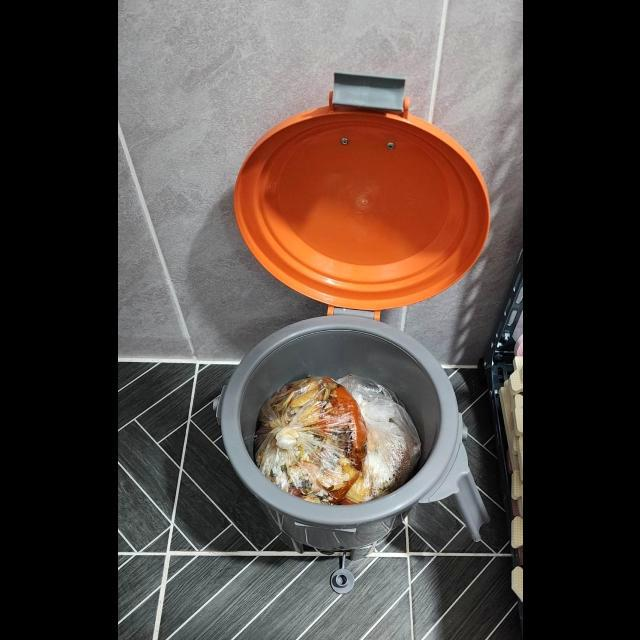left_over_food: (253, 376, 367, 504)
plastic_bag: (336, 374, 422, 505)
